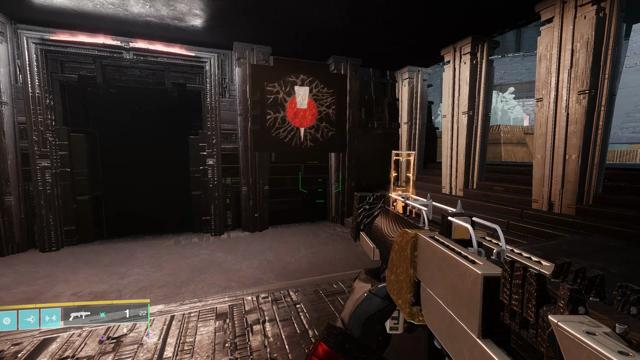kill: (264, 74, 337, 148)
